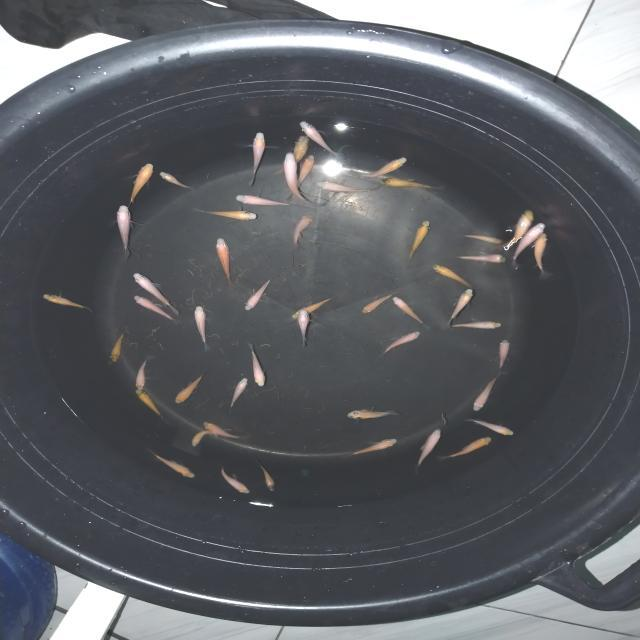nila: (132, 270, 192, 317), (282, 154, 322, 211), (296, 120, 347, 159), (147, 446, 197, 482), (509, 222, 548, 268), (437, 434, 499, 462), (285, 154, 319, 203), (504, 208, 540, 252), (130, 294, 179, 326), (275, 134, 309, 180), (172, 366, 208, 409), (415, 426, 444, 479), (346, 154, 409, 178), (292, 290, 338, 322), (341, 437, 400, 461), (243, 130, 268, 186), (126, 163, 155, 208), (392, 296, 428, 332), (114, 204, 138, 258), (470, 374, 502, 414), (461, 416, 518, 438), (241, 274, 273, 313), (248, 340, 270, 394), (41, 292, 95, 314), (444, 288, 476, 325), (408, 217, 432, 266), (381, 330, 424, 357), (432, 264, 481, 287), (202, 420, 253, 442), (194, 206, 260, 223), (133, 389, 165, 423), (223, 375, 250, 413), (218, 466, 252, 496), (215, 237, 235, 286), (317, 180, 377, 196), (363, 289, 398, 316), (346, 404, 398, 422), (233, 193, 290, 209), (295, 310, 317, 350), (534, 230, 550, 284), (192, 302, 210, 350), (379, 177, 442, 190), (290, 216, 314, 248), (157, 171, 194, 191), (493, 338, 512, 376), (134, 352, 152, 391), (454, 253, 509, 265), (256, 464, 278, 494), (456, 232, 504, 245), (191, 430, 221, 450), (108, 331, 126, 364), (450, 321, 503, 332)
